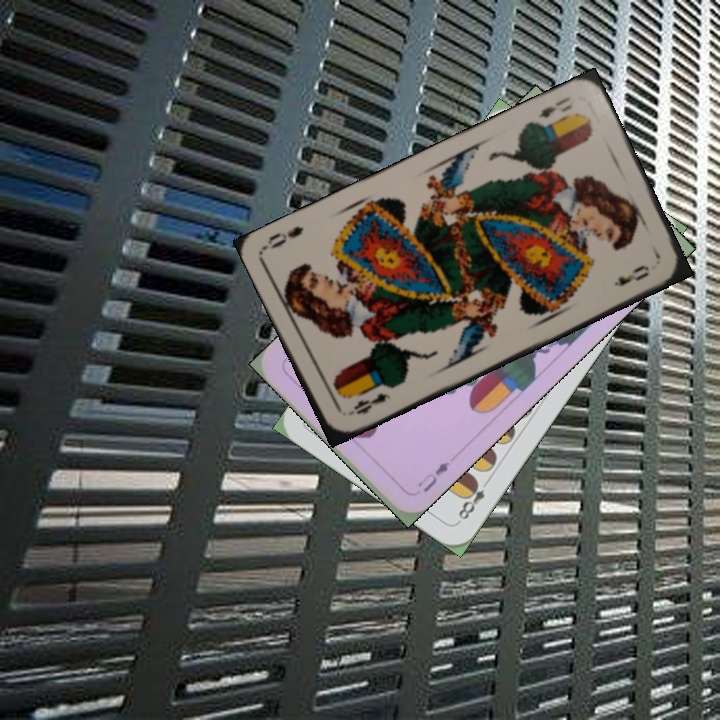E8: (454, 473, 494, 523)
EO: (343, 389, 394, 419), (533, 92, 575, 121)
EU: (413, 457, 452, 495)
